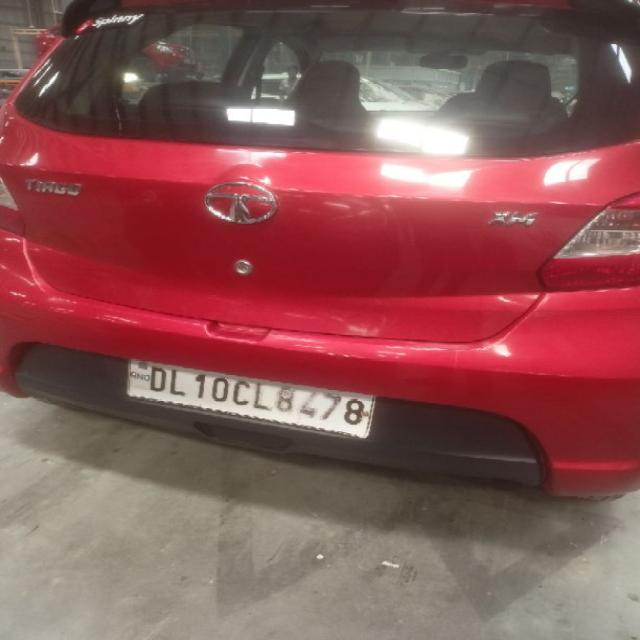license_plate: (125, 357, 378, 440)
